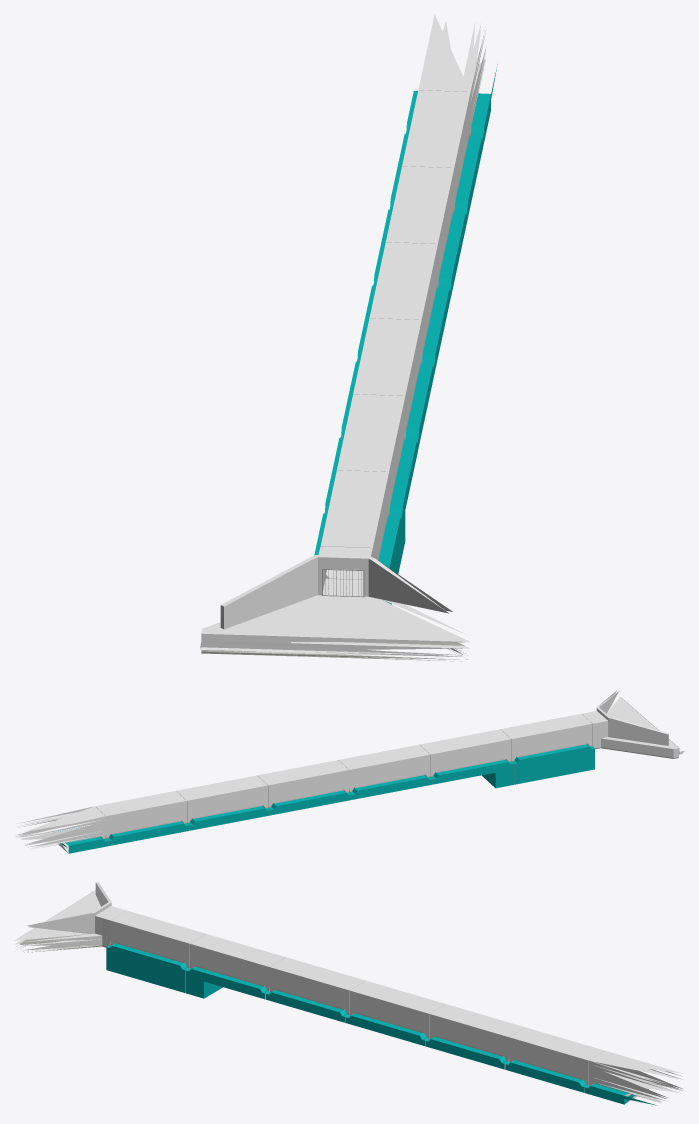
File: tramo50.glb
3 views of the same model, one above another, from view 1: azimuth 30°, elevation 25°; view 2: azimuth 150°, elevation 25°; view 3: azimuth 270°, elevation 25° (orthographic). The views are drawn at different scales.
Visible parts, largest first — view 1: georef-recentro; view 2: georef-recentro; view 3: georef-recentro.
Part boxes in pixels (x1,y1,x2,y2): georef-recentro: (200,14,497,661); georef-recentro: (15,690,684,853); georef-recentro: (14,882,683,1105).
Size of the model in its own units: 45.16 by 4.85 by 58.56.
